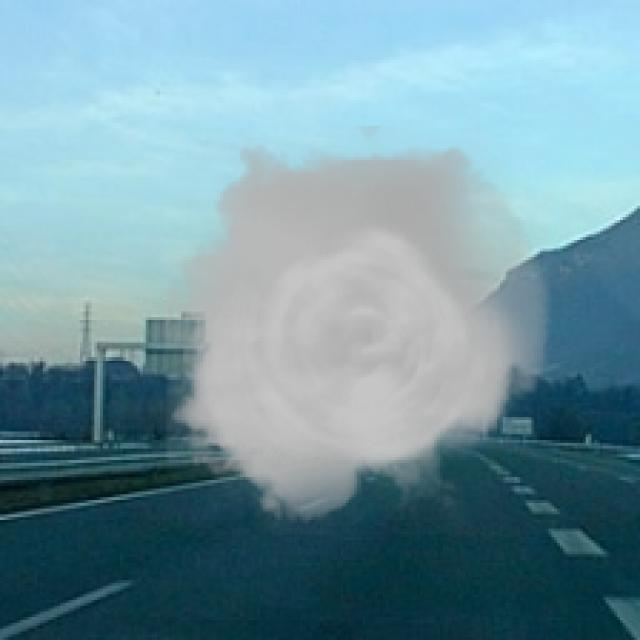Smoke: (166, 126, 552, 534)
